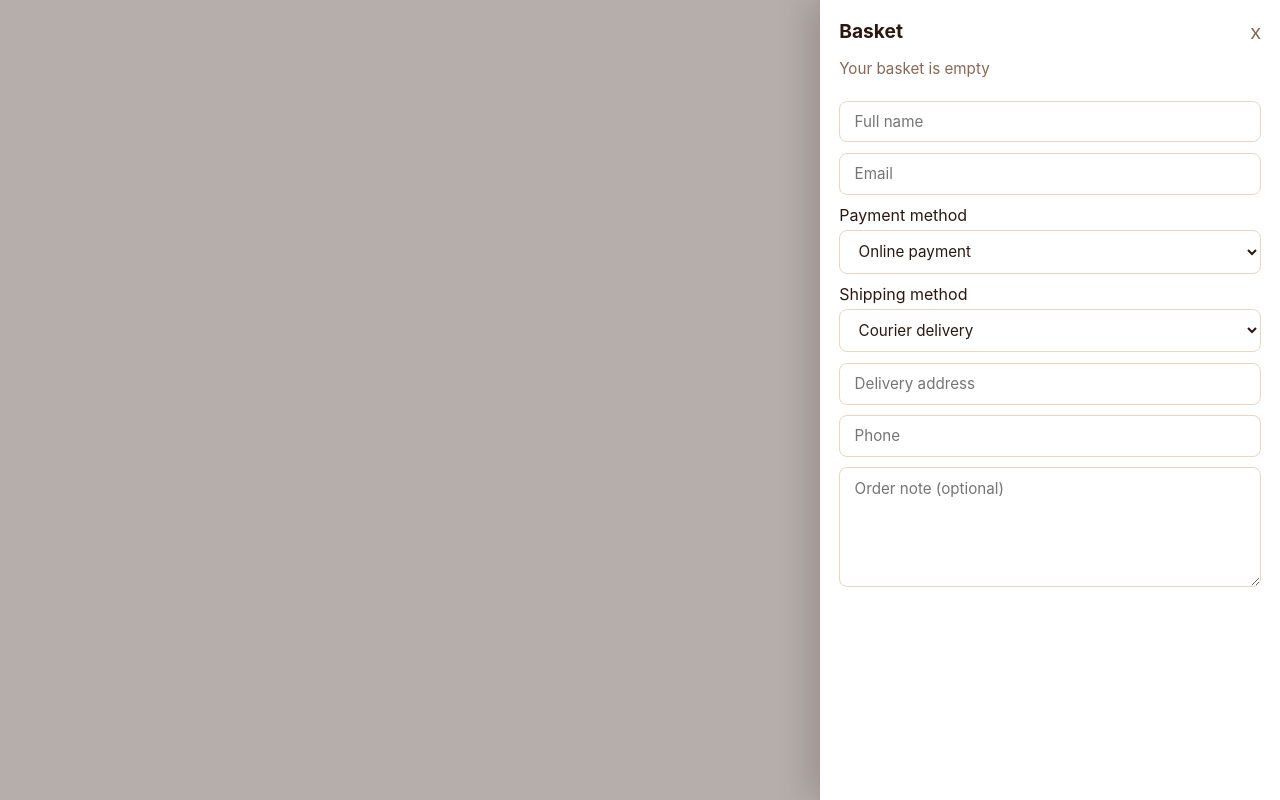
BasketDrawer address lookup › debounces address search and calculates a route only after selecting an exact address
This screenshot has width=1280, height=800.
Type "Bel" into the field with placeholder "Delivery address".
click(1050, 384); type("Bel")  # box [839,363,1261,405]
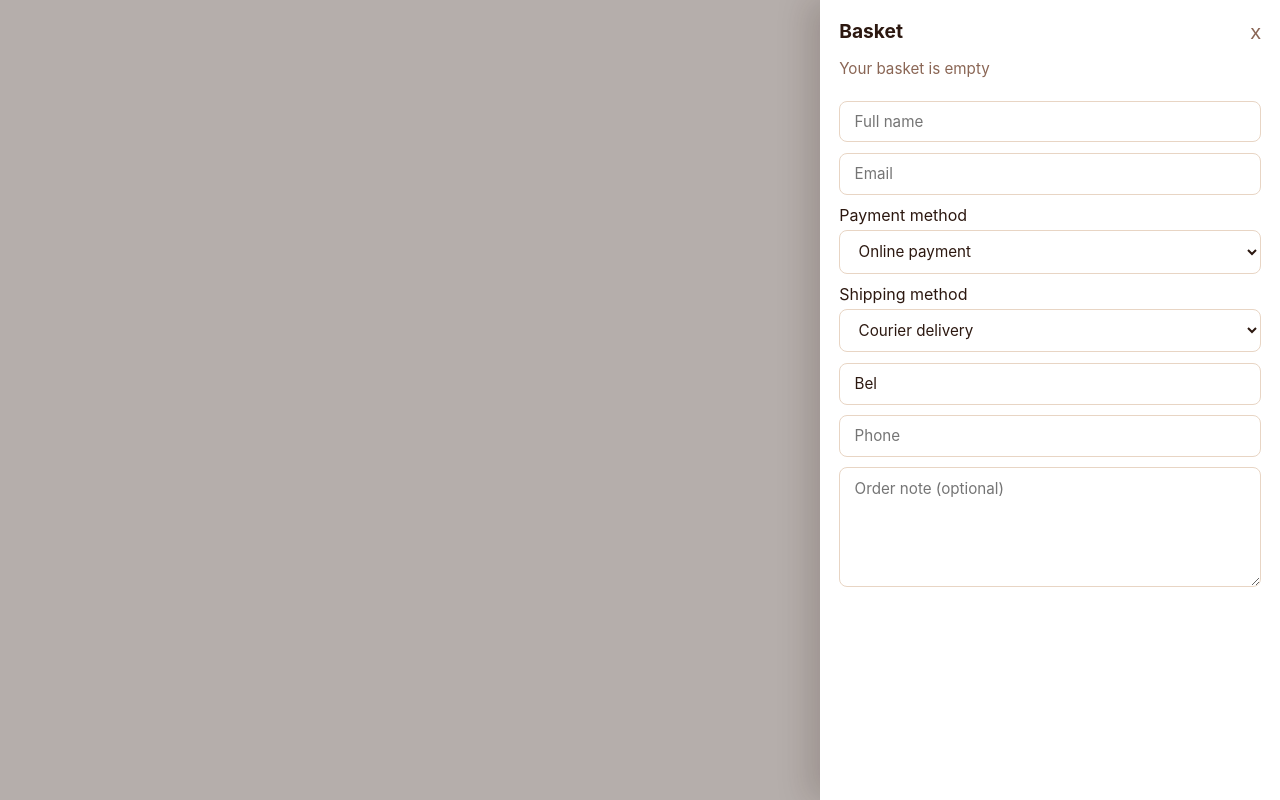
Replace the text in the field with placeholder "Delivery address" with "Belgrade, Knez Mihailova 1" at (1050, 384), box [839,363,1261,405]
Wait 350 ms
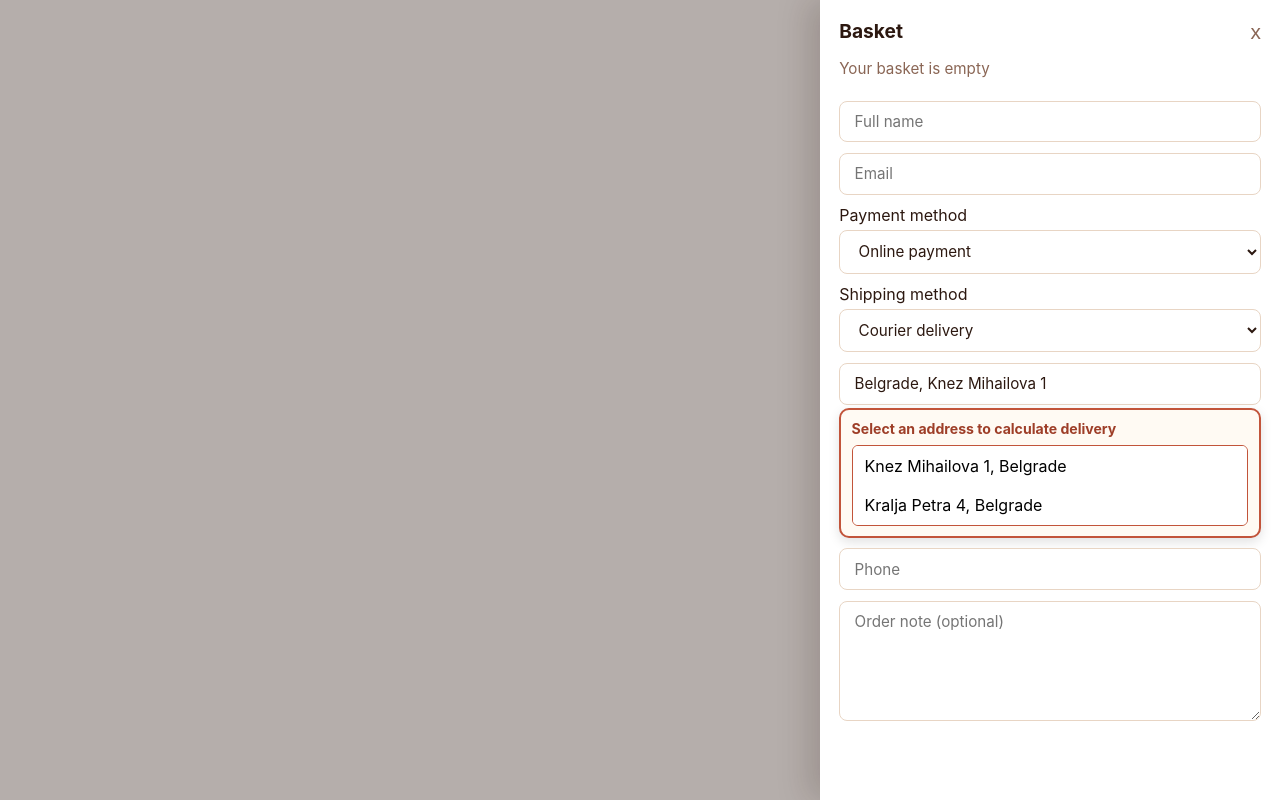
Now the option "Knez Mihailova 1, Belgrade" is shown
Click the option "Knez Mihailova 1, Belgrade".
click(1050, 466)  # box [853,446,1247,485]
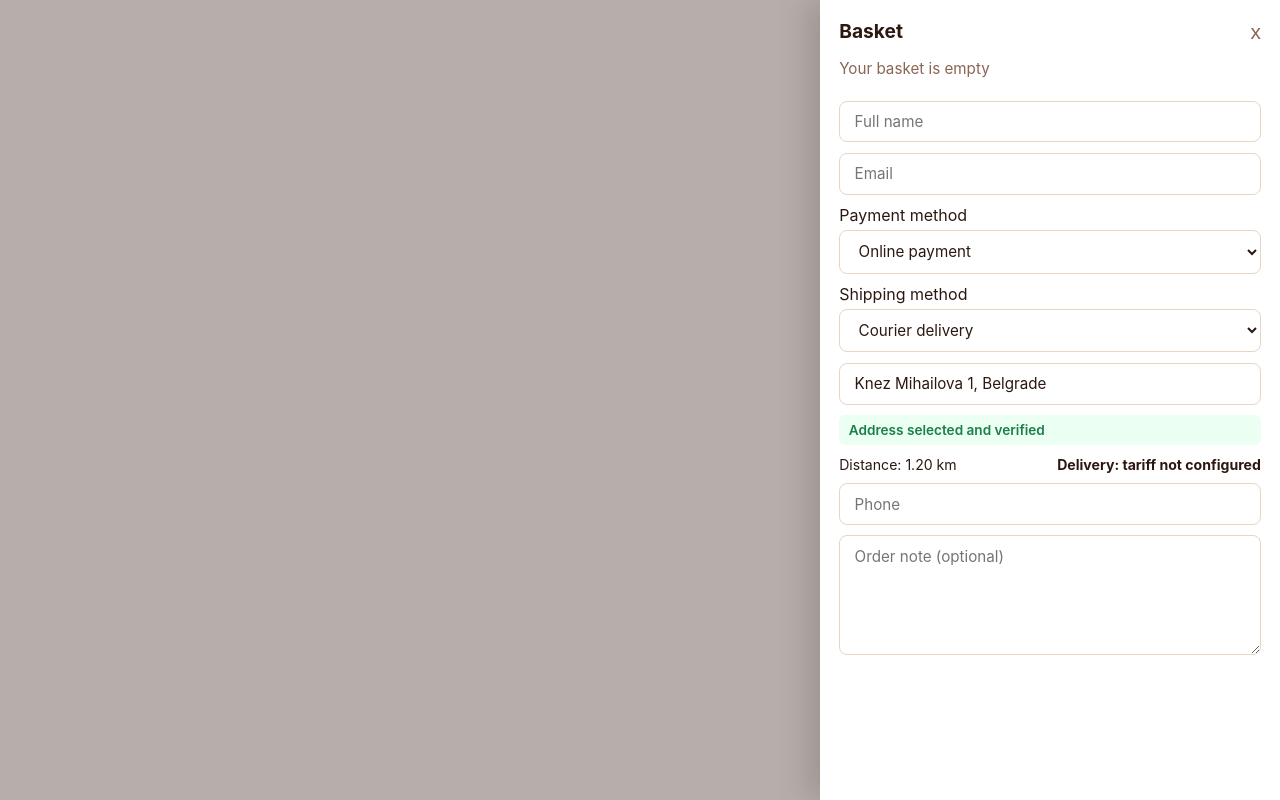
Now the text "Delivery: tariff not configured" is shown, box [1057,456,1261,473]
Now the text "Address selected and verified" is shown, box [839,415,1261,445]
